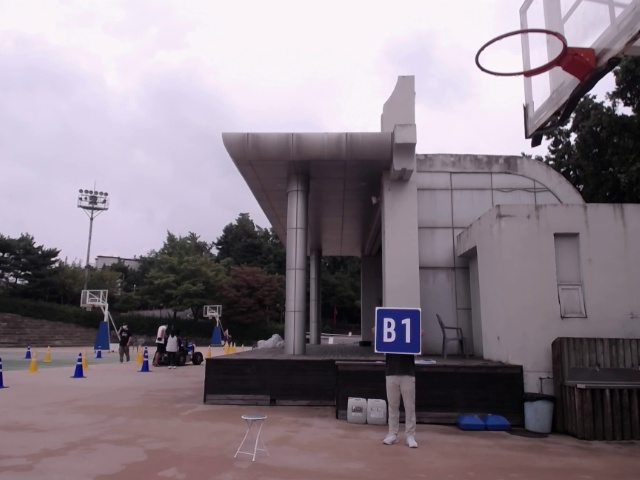delivery_b1: (376, 307, 421, 354)
